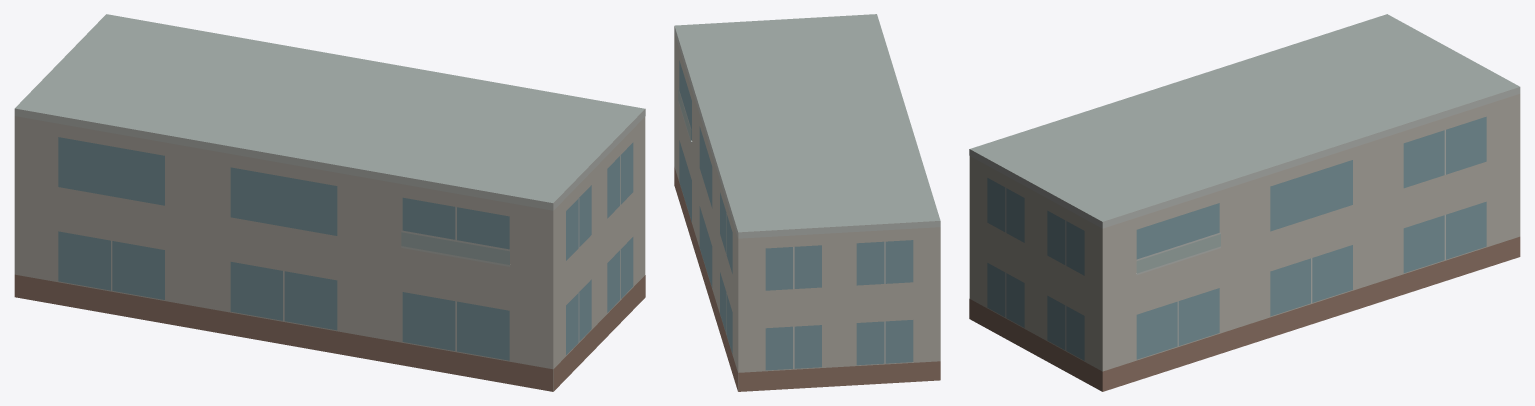
File: survey-upis-32815518.glb
The picture shows the model from 3 angles, left to right: view 1: azimuth 30°, elevation 25°; view 2: azimuth 150°, elevation 25°; view 3: azimuth 270°, elevation 25°; orthographic projection. The views are drawn at different scales.
Parts seen in each view (by area): view 1: survey-upis-32815518.tmp; view 2: survey-upis-32815518.tmp; view 3: survey-upis-32815518.tmp.
Boxes of the visible parts, bbox=[...] form: survey-upis-32815518.tmp: bbox=[14, 14, 645, 391]; survey-upis-32815518.tmp: bbox=[674, 14, 940, 391]; survey-upis-32815518.tmp: bbox=[969, 14, 1520, 391].
Size of the model in its own units: 16.01 by 6.1 by 17.92.
